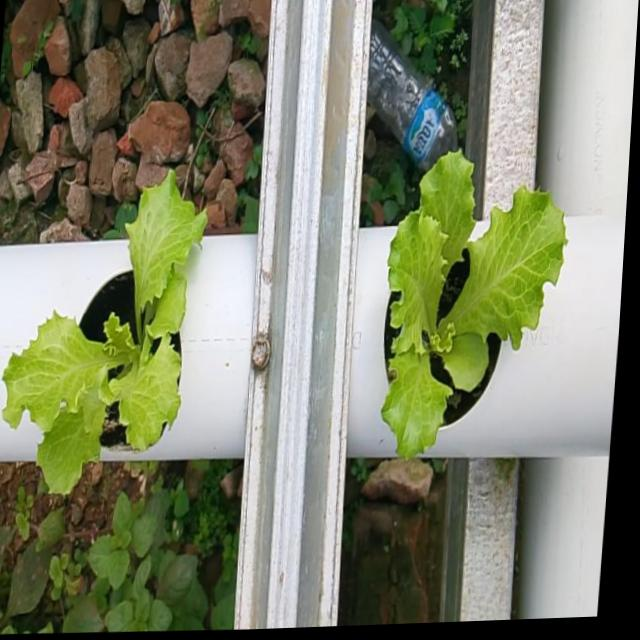Baby: (0, 173, 205, 498), (379, 154, 566, 465)
